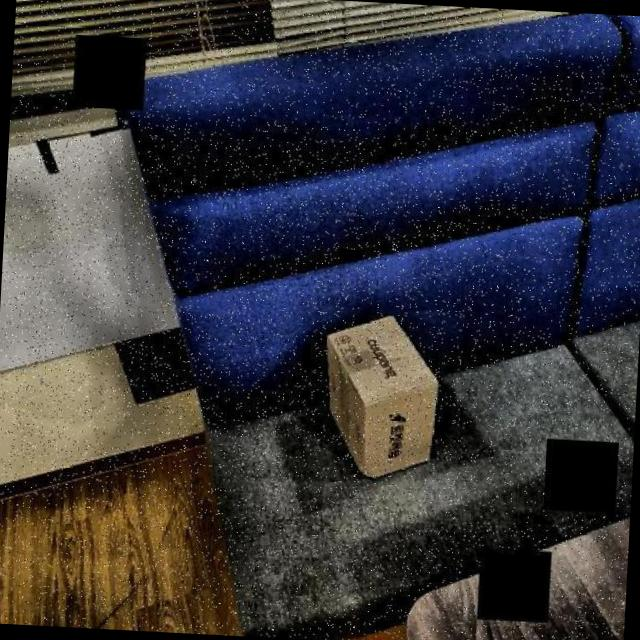box: (312, 306, 466, 503)
